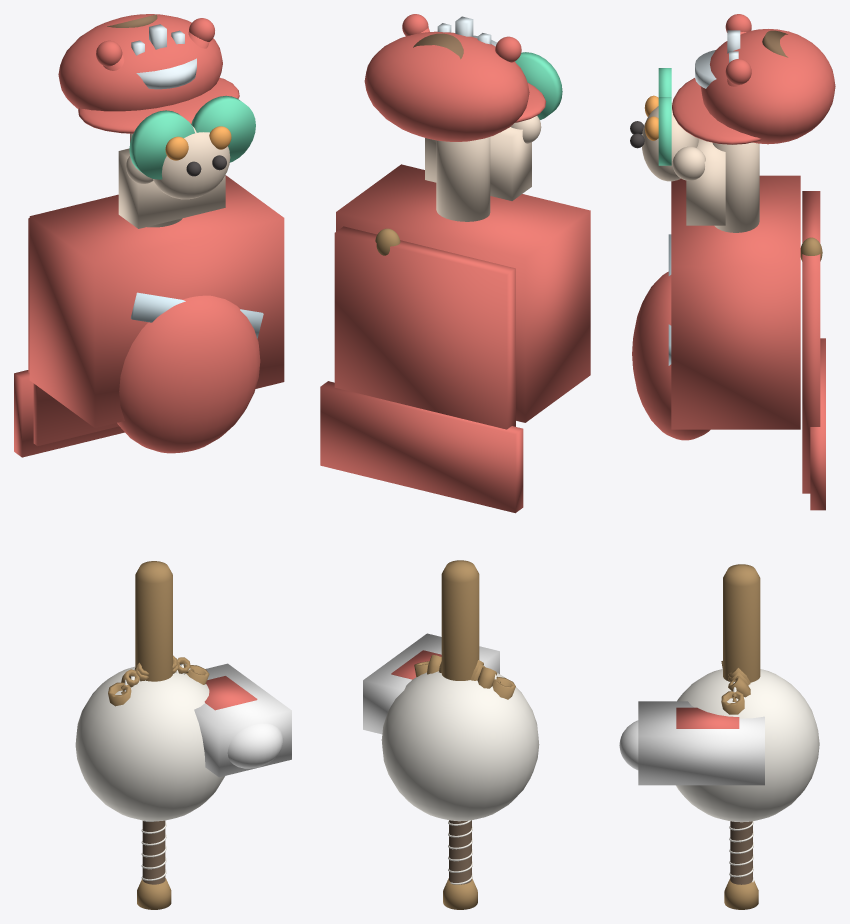
The model's file is extras.fbx.
3 renders of one model, left to right at view 1: azimuth 30°, elevation 25°; view 2: azimuth 150°, elevation 25°; view 3: azimuth 270°, elevation 25°, orthographic.
Parts seen in each view (by area): view 1: cube-chest, belly, baseball, shell, sneakers, bat-wood, goggles, cape, brick-jaw, snout, crown, horns (+4 smaller); view 2: cape, cube-chest, baseball, shell, bat-wood, neck, sneakers, brick-jaw, goggles, horns, glove-brown, crown (+1 smaller); view 3: cube-chest, shell, baseball, sneakers, cape, bat-wood, belly, neck, brick-jaw, snout, goggles, horns (+4 smaller).
Part boxes in pixels (x1,y1,x2,y2): cube-chest: [29, 175, 284, 427]; belly: [117, 295, 260, 453]; baseball: [75, 666, 224, 821]; shell: [58, 14, 239, 133]; sneakers: [194, 663, 291, 777]; bat-wood: [135, 561, 172, 909]; goggles: [129, 95, 255, 179]; cape: [14, 218, 124, 457]; brick-jaw: [118, 148, 225, 228]; snout: [153, 126, 230, 199]; crown: [131, 24, 196, 89]; horns: [96, 18, 214, 70]; cape: [320, 226, 523, 513]; cube-chest: [336, 164, 590, 422]; baseball: [381, 671, 539, 821]; shell: [364, 31, 546, 141]; bat-wood: [441, 560, 479, 909]; neck: [436, 137, 490, 221]; sneakers: [363, 633, 499, 734]; brick-jaw: [425, 127, 531, 200]; goggles: [515, 52, 562, 119]; horns: [402, 14, 521, 62]; glove-brown: [427, 655, 515, 699]; crown: [437, 16, 496, 46]; cube-chest: [671, 175, 800, 429]; shell: [672, 29, 835, 144]; baseball: [676, 669, 819, 822]; sneakers: [619, 701, 764, 785]; cape: [802, 191, 825, 510]; bat-wood: [723, 564, 760, 909]; belly: [632, 271, 710, 440]; neck: [712, 142, 759, 232]; brick-jaw: [686, 138, 725, 225]; snout: [630, 102, 698, 181]; goggles: [658, 68, 671, 165]; horns: [725, 14, 751, 86].
Size of the model in its own units: 1.43 by 6.16 by 1.38.
